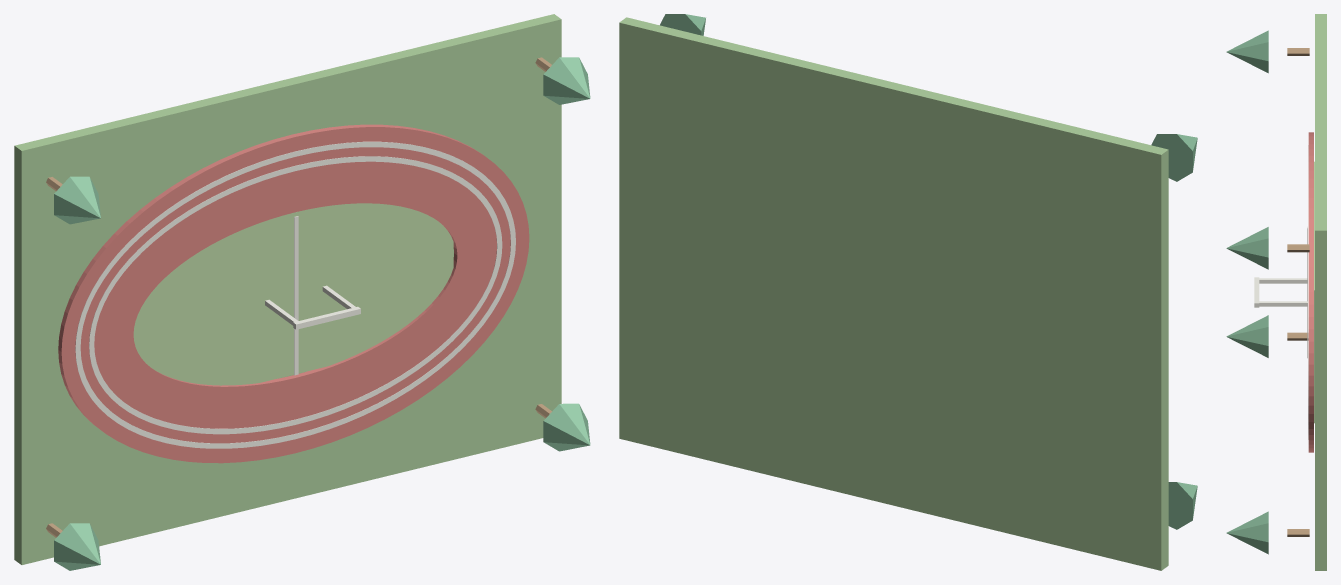
File: running_track.glb
The picture shows the model from 3 angles, left to right: view 1: azimuth 30°, elevation 25°; view 2: azimuth 150°, elevation 25°; view 3: azimuth 270°, elevation 25°; orthographic projection. The views are drawn at different scales.
Parts seen in each view (by area): view 1: terrain, track, infield, lane_1, lane_2, tree_crown_2, tree_crown_1, tree_crown_3, tree_crown_0, finish_line; view 2: terrain, tree_crown_1, tree_crown_0, tree_crown_3; view 3: terrain, track, tree_crown_1, tree_crown_2, tree_crown_3, tree_crown_0, gantry_post_-0.8, gantry_post_0.8, lane_1, infield, tree_trunk_3, tree_trunk_0 (+3 smaller).
Part boxes in pixels (x1,y1,x2,y2): terrain: (14,14,561,564); track: (58,124,529,463); infield: (133,203,453,385); lane_1: (75,141,515,448); lane_2: (89,156,502,434); tree_crown_2: (543,403,590,451); tree_crown_1: (54,176,100,224); tree_crown_3: (543,57,590,104); tree_crown_0: (54,523,100,570); finish_line: (294,216,298,375); terrain: (619,17,1168,570); tree_crown_1: (1151,134,1197,181); tree_crown_0: (1168,482,1197,529); tree_crown_3: (660,14,705,35); terrain: (1315,14,1326,570); track: (1308,132,1313,452); tree_crown_1: (1226,30,1268,73); tree_crown_2: (1226,511,1268,554); tree_crown_3: (1226,227,1268,269); tree_crown_0: (1226,315,1268,357); gantry_post_-0.8: (1259,278,1307,283); gantry_post_0.8: (1259,301,1307,306); lane_1: (1308,145,1308,439); infield: (1314,161,1314,423); tree_trunk_3: (1287,244,1309,252); tree_trunk_0: (1287,332,1308,340).
Bounding box in the file's own units: 15 × 11 × 2.95.
